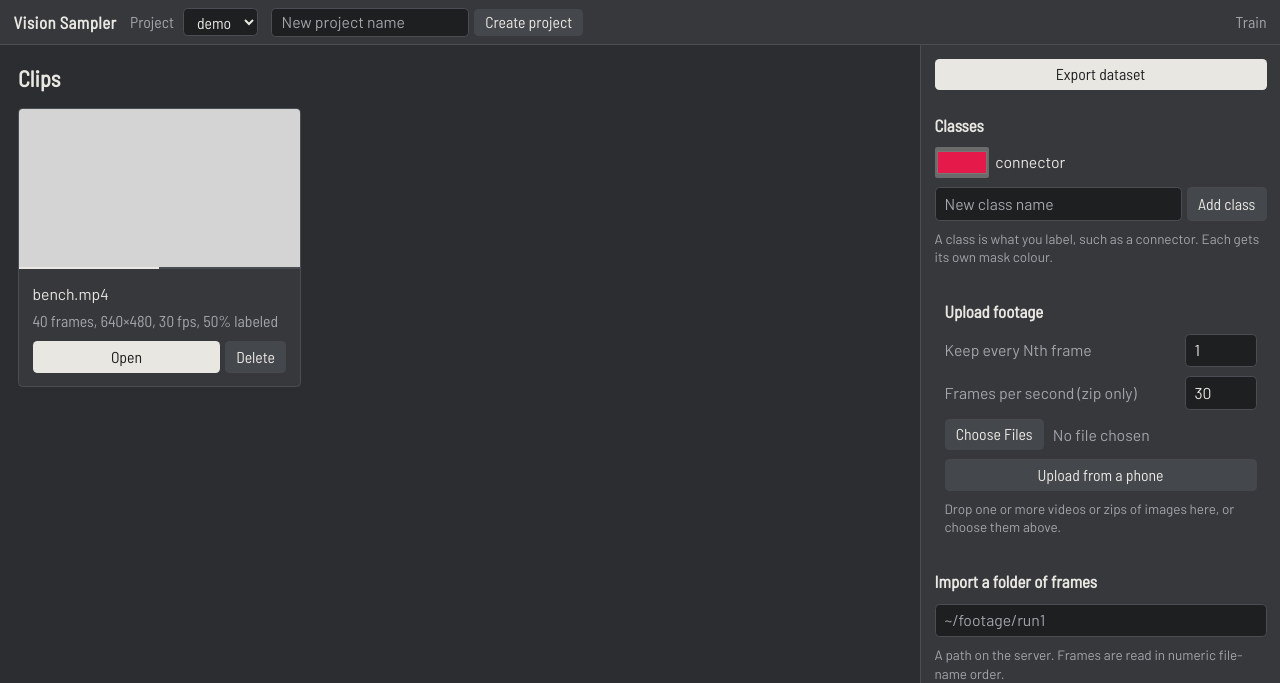
Clips page › creates a project and selects it
Expected: the text "bench.mp4" is shown, [32,284,108,303]
Type " new " into the field labelled "New project name" at (370, 22), box [272,8,470,36]
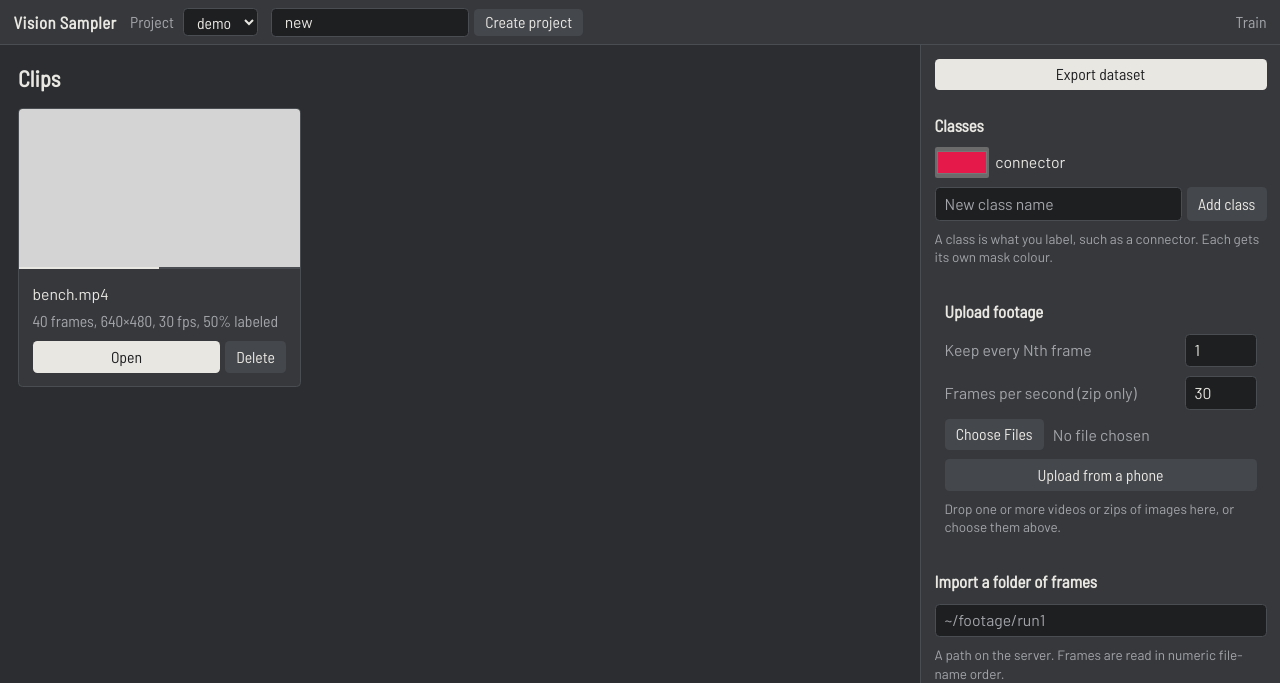
Click the button "Create project" at (529, 22), box [474,8,583,36]
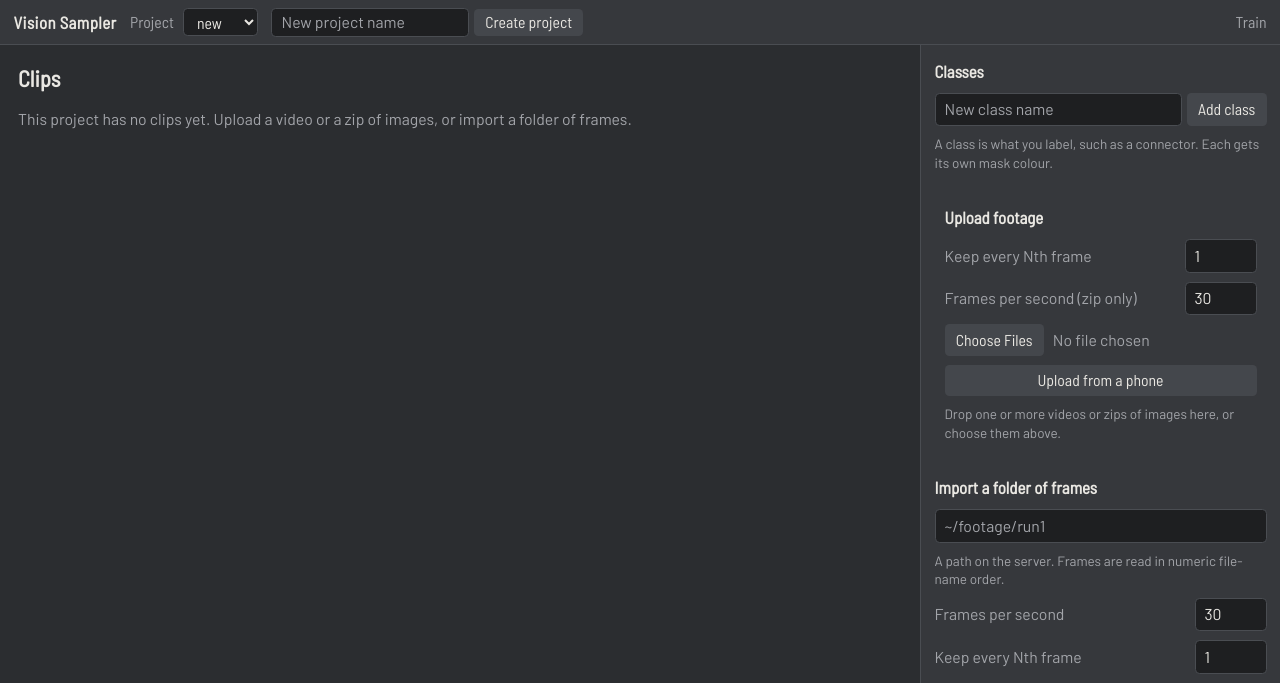
Result: the dropdown labelled "Project" shows "new" at [183,8,258,36]
